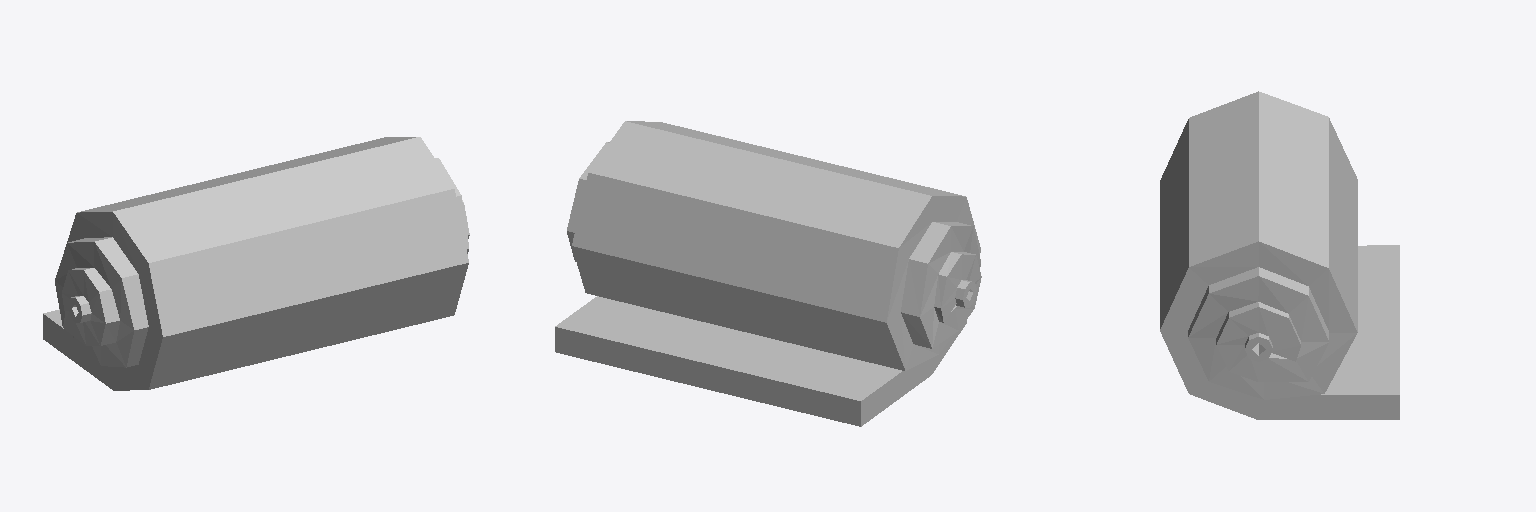
File: fabric_item.obj
3 views of the same model, side by side, from view 1: azimuth 30°, elevation 25°; view 2: azimuth 150°, elevation 25°; view 3: azimuth 270°, elevation 25° (orthographic).
Visible parts, largest first — view 1: fabric_fabric_item; view 2: fabric_fabric_item; view 3: fabric_fabric_item.
Part boxes in pixels (x1,y1,x2,y2): fabric_fabric_item: (43, 137, 469, 390); fabric_fabric_item: (555, 121, 981, 426); fabric_fabric_item: (1160, 91, 1399, 419).
Size of the model in its own units: 0.3125 by 0.14 by 0.17.